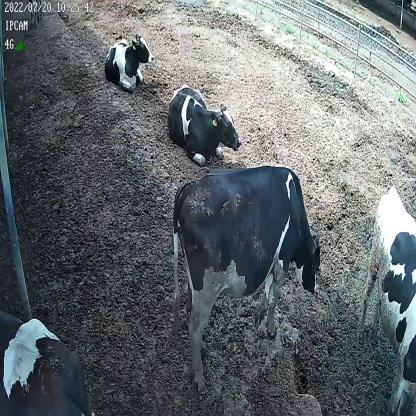cow: (170, 165, 323, 399), (359, 185, 416, 412), (166, 79, 243, 169), (102, 32, 154, 92)
